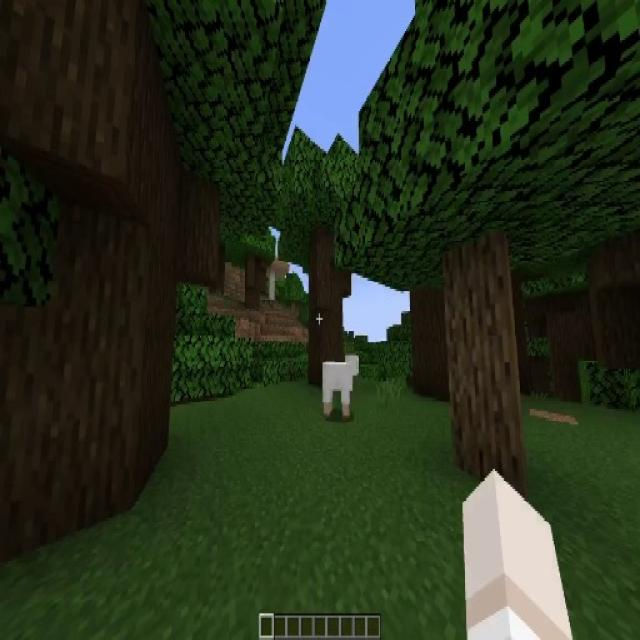dark_oak: (277, 132, 362, 386), (230, 220, 269, 310)
dark_oak_log: (0, 0, 210, 552), (535, 252, 637, 402), (306, 231, 346, 375), (410, 288, 446, 403), (246, 258, 261, 308)
oak_log: (446, 230, 524, 490)
